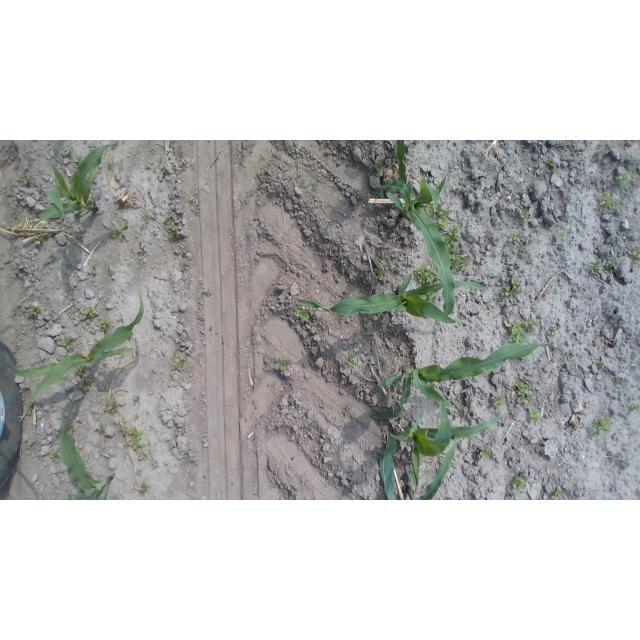Maize: (371, 343, 565, 422), (7, 289, 145, 400), (378, 141, 456, 320), (378, 401, 501, 500), (298, 275, 487, 326), (28, 141, 120, 238), (59, 396, 114, 501), (405, 436, 458, 501)
Weeds: (120, 424, 148, 461), (508, 318, 539, 345), (445, 244, 471, 273), (413, 264, 441, 286), (512, 379, 532, 406), (501, 279, 523, 302), (424, 200, 452, 218), (442, 224, 462, 246), (510, 474, 528, 498), (108, 221, 128, 241), (593, 415, 612, 435), (58, 333, 78, 352), (297, 172, 320, 188), (81, 307, 97, 330), (274, 358, 293, 373), (616, 169, 633, 185), (599, 192, 614, 209), (588, 260, 605, 275), (172, 356, 188, 371), (488, 396, 506, 409), (546, 157, 559, 173), (164, 212, 177, 228), (432, 218, 449, 230), (528, 406, 540, 423), (34, 231, 48, 245), (73, 363, 88, 376), (419, 292, 439, 301), (100, 316, 111, 332), (508, 232, 521, 245), (480, 448, 493, 461), (520, 210, 532, 224), (631, 245, 640, 263), (344, 407, 356, 420), (106, 400, 119, 412), (79, 379, 91, 392), (25, 305, 39, 316), (139, 211, 150, 225), (372, 161, 385, 172), (139, 482, 149, 496), (607, 260, 618, 272), (373, 268, 383, 281), (95, 423, 105, 436), (68, 420, 76, 436), (552, 489, 563, 500), (75, 226, 85, 238), (168, 230, 178, 242), (555, 230, 565, 241), (22, 175, 33, 185), (180, 261, 190, 271), (63, 147, 73, 157), (176, 161, 185, 172), (25, 403, 32, 416), (616, 380, 626, 389), (48, 452, 58, 461), (632, 403, 640, 414), (107, 154, 115, 165), (75, 155, 84, 164), (551, 326, 559, 336), (597, 360, 607, 368), (46, 152, 56, 160), (88, 141, 99, 148), (350, 356, 358, 365), (348, 468, 357, 476), (88, 196, 96, 205), (202, 288, 210, 297), (64, 493, 74, 500), (132, 396, 140, 404), (319, 401, 327, 408), (133, 413, 140, 421), (424, 470, 432, 477), (601, 329, 608, 336), (623, 460, 629, 467), (118, 160, 124, 167), (68, 179, 72, 189), (155, 158, 161, 164), (340, 267, 345, 274), (632, 431, 639, 436), (31, 220, 35, 225)
